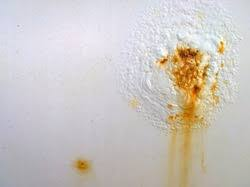rust: (152, 40, 226, 133), (71, 156, 94, 173)
